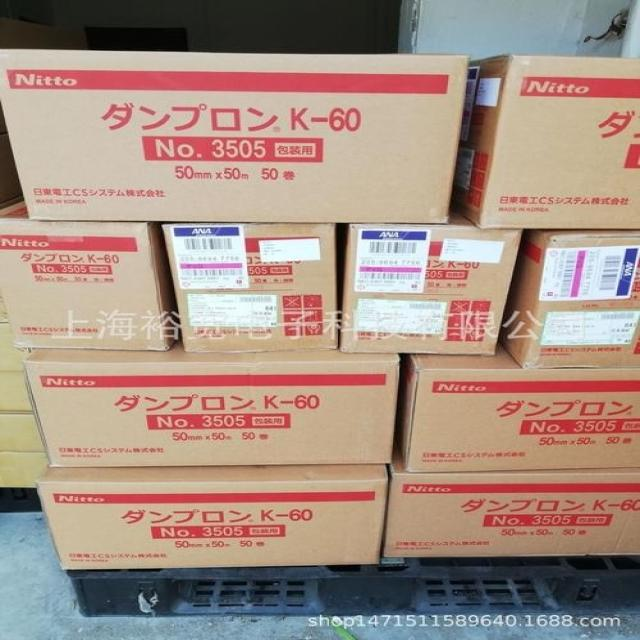box: (0, 47, 469, 225), (24, 330, 398, 466), (35, 462, 388, 569), (453, 54, 639, 232), (392, 341, 639, 471), (378, 446, 637, 559), (341, 201, 522, 353), (4, 198, 180, 349), (162, 222, 339, 353), (500, 229, 639, 370), (4, 20, 189, 45), (0, 295, 40, 373), (0, 448, 50, 489), (0, 409, 44, 452), (1, 106, 19, 207), (1, 371, 33, 415)
